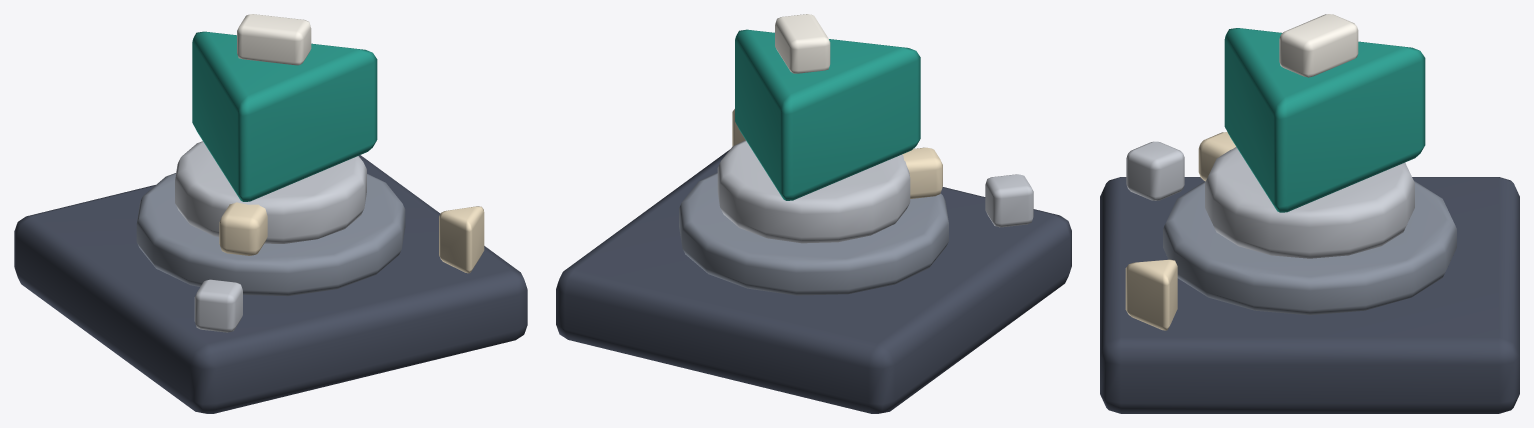
Rendered from Ctrl_Instr_Spectrometer.fbx.
The picture shows the model from 3 angles, left to right: view 1: azimuth 30°, elevation 25°; view 2: azimuth 150°, elevation 25°; view 3: azimuth 270°, elevation 25°; orthographic projection. The views are drawn at different scales.
Visible parts, largest first — view 1: Ctrl_Instr_Spectrometer.Base, Ctrl_Instr_Spectrometer.Move_Knob, Ctrl_Instr_Spectrometer.Dial, Ctrl_Instr_Spectrometer.Marks; view 2: Ctrl_Instr_Spectrometer.Base, Ctrl_Instr_Spectrometer.Move_Knob, Ctrl_Instr_Spectrometer.Dial, Ctrl_Instr_Spectrometer.Marks; view 3: Ctrl_Instr_Spectrometer.Base, Ctrl_Instr_Spectrometer.Move_Knob, Ctrl_Instr_Spectrometer.Dial, Ctrl_Instr_Spectrometer.Marks.
Boxes of the visible parts, box(x1,y1,x2,y2) form: Ctrl_Instr_Spectrometer.Base: box(14, 155, 527, 413); Ctrl_Instr_Spectrometer.Move_Knob: box(175, 14, 377, 255); Ctrl_Instr_Spectrometer.Dial: box(136, 173, 405, 296); Ctrl_Instr_Spectrometer.Marks: box(194, 206, 484, 332); Ctrl_Instr_Spectrometer.Base: box(556, 149, 1071, 413); Ctrl_Instr_Spectrometer.Move_Knob: box(717, 14, 942, 243); Ctrl_Instr_Spectrometer.Dial: box(679, 172, 948, 295); Ctrl_Instr_Spectrometer.Marks: box(732, 109, 1033, 227); Ctrl_Instr_Spectrometer.Base: box(1100, 177, 1519, 413); Ctrl_Instr_Spectrometer.Move_Knob: box(1198, 14, 1425, 258); Ctrl_Instr_Spectrometer.Dial: box(1163, 181, 1456, 315); Ctrl_Instr_Spectrometer.Marks: box(1125, 141, 1184, 330).
Size of the model in its own units: 0.2 by 0.163 by 0.2.
1 material, 1 textured.
